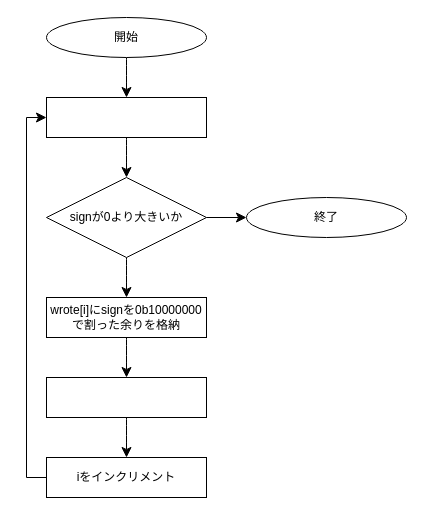
Some shapes in this 424 by 525 pixel diagram are drawn without their labels. The shapes that lost their labels are listed below. From the top down, each one's box as (x1, y1, x2, y2) in pixels, then its label:
(46, 96, 206, 138): iを0に設定
(46, 376, 206, 418): signを0b10000000で割る
